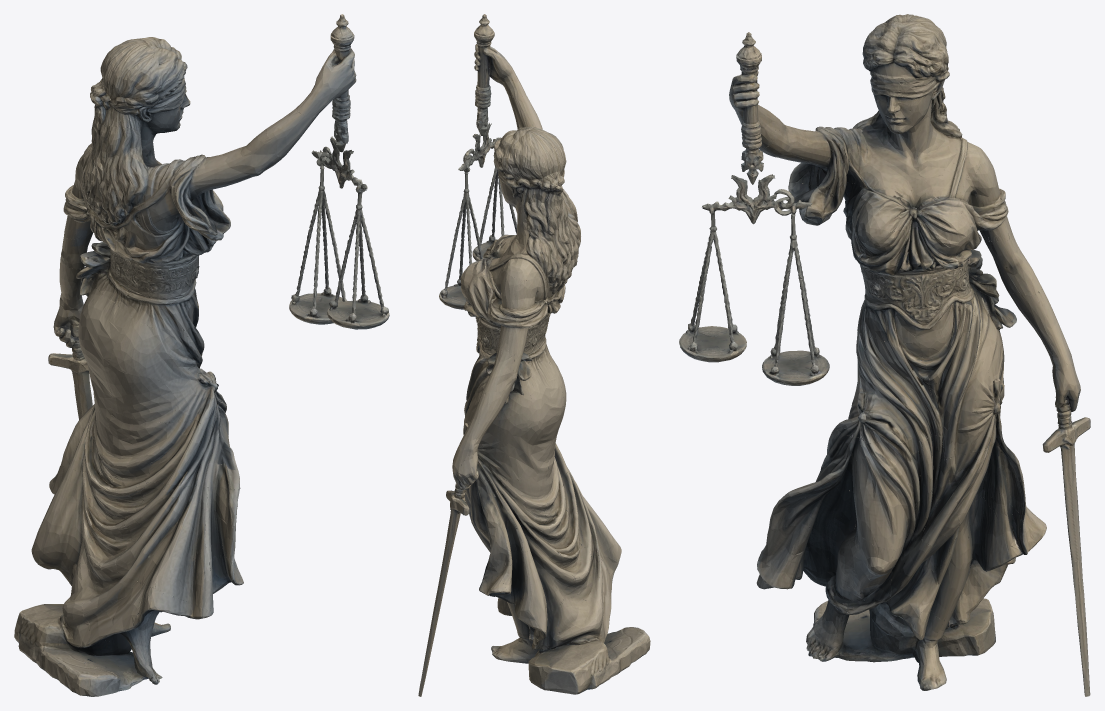
File: ladyjustice.glb
3 renders of one model, left to right at view 1: azimuth 30°, elevation 25°; view 2: azimuth 150°, elevation 25°; view 3: azimuth 270°, elevation 25°, orthographic. The views are drawn at different scales.
Visible parts, largest first — view 1: edit1; view 2: edit1; view 3: edit1.
Boxes of the visible parts, x1,y1,x2,y2 form: edit1: (14,14,389,696); edit1: (418,14,650,696); edit1: (679,14,1090,696).
Bounding box in the file's own units: 2.35 × 5.74 × 3.03.
Materials: 1 (1 with a texture image).
